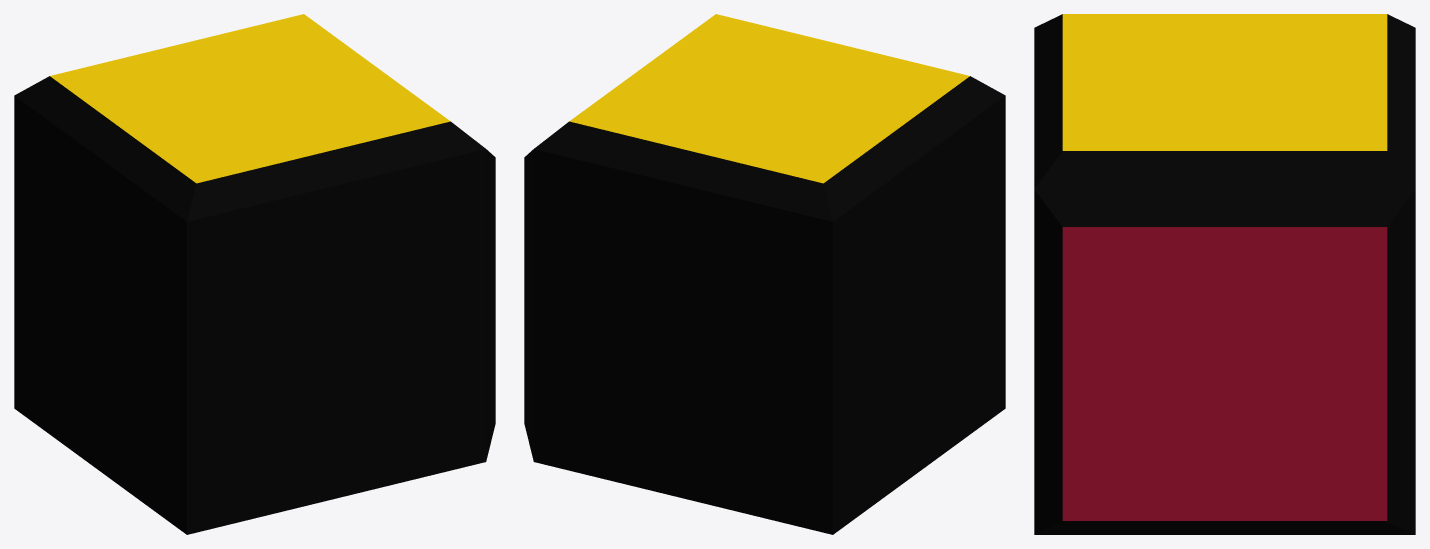
Rendered from rubiks_cube_22.glb.
The picture shows the model from 3 angles, left to right: view 1: azimuth 30°, elevation 25°; view 2: azimuth 150°, elevation 25°; view 3: azimuth 270°, elevation 25°; orthographic projection. The views are drawn at different scales.
Parts seen in each view (by area): view 1: Cube22.001; view 2: Cube22.001; view 3: Cube22.001.
Part boxes in pixels (left/top/right/bottom): Cube22.001: left=14, top=14, right=495, bottom=534; Cube22.001: left=524, top=14, right=1005, bottom=534; Cube22.001: left=1034, top=14, right=1415, bottom=534.
Bounding box in the file's own units: 2.15 × 2.15 × 2.
